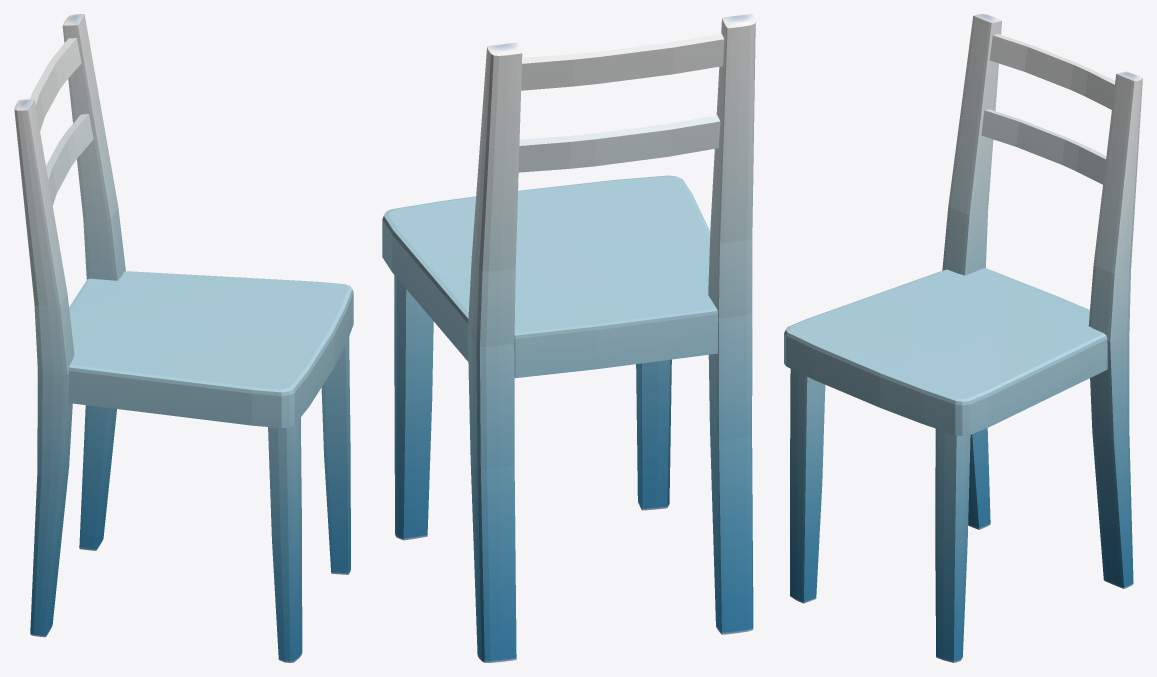
Rendered from Chair_2.fbx.
3 renders of one model, left to right at view 1: azimuth 30°, elevation 25°; view 2: azimuth 150°, elevation 25°; view 3: azimuth 270°, elevation 25°, orthographic. The views are drawn at different scales.
Parts seen in each view (by area): view 1: Chair1; view 2: Chair1; view 3: Chair1.
Part boxes in pixels (x1=…): Chair1: x1=14, y1=14, x2=353, y2=662; Chair1: x1=382, y1=14, x2=755, y2=662; Chair1: x1=784, y1=14, x2=1142, y2=662.
Size of the model in its own units: 6.38 by 9.83 by 6.36.
1 material, 1 textured.
